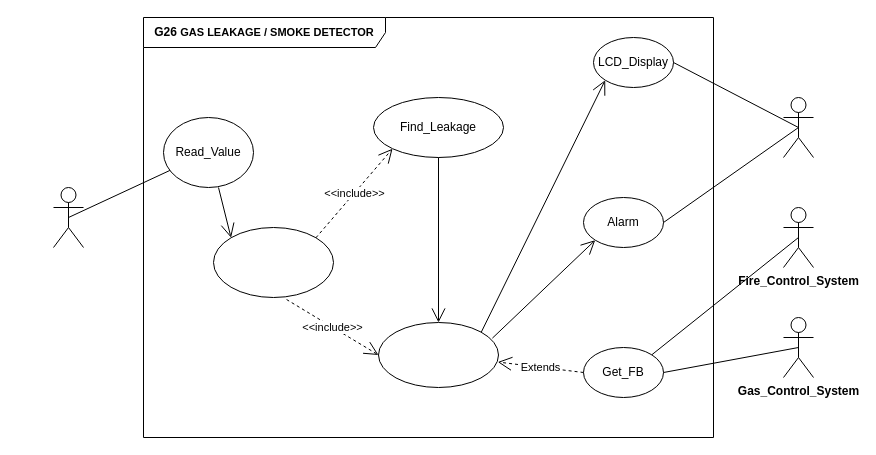
Image size: 876x455. Some labels were removed from this diagram. Each missing label, with the centre of its shape:
Calibrate_Sensor: the point at 273,262
Display_Leakage: the point at 438,355
MQ2_Gas_Sensor: the point at 68,217
User: the point at 798,127
